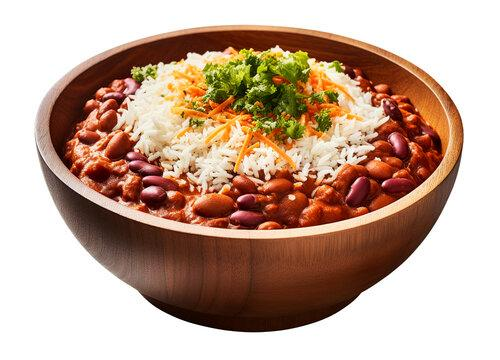rajma: (112, 173, 423, 226)
rice: (154, 56, 364, 160)
